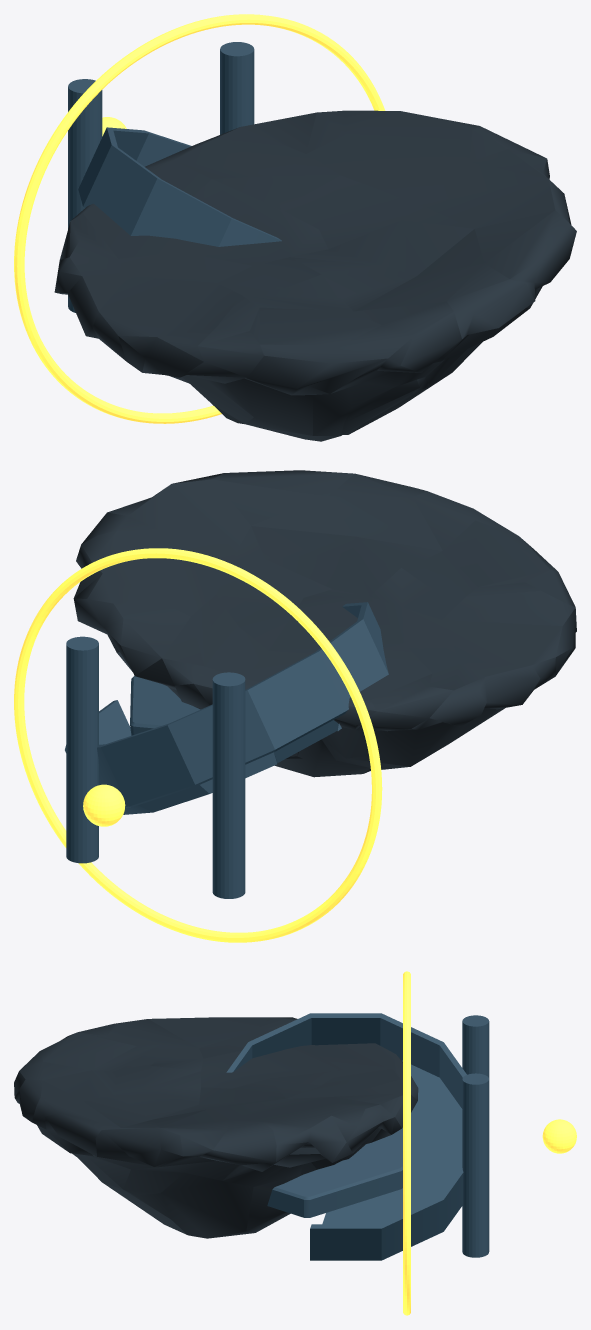
3 views of the same model, one above another, from view 1: azimuth 30°, elevation 25°; view 2: azimuth 150°, elevation 25°; view 3: azimuth 270°, elevation 25° (orthographic). The views are drawn at different scales.
Visible parts, largest first — view 1: AI_PM_launch_island_Floating_Island_01_Art, AI_PM_launch_station_Aero_Station_YellowRing_Art, AI_PM_launch_orange_ring, AI_PM_launch_gate_column_a, AI_PM_launch_gate_column_b; view 2: AI_PM_launch_island_Floating_Island_01_Art, AI_PM_launch_station_Aero_Station_YellowRing_Art, AI_PM_launch_orange_ring, AI_PM_launch_gate_column_a, AI_PM_launch_gate_column_b, AI_PM_launch_pad_Aero_Ground_Hexagon_Art, AI_PM_launch_gate_beacon; view 3: AI_PM_launch_island_Floating_Island_01_Art, AI_PM_launch_station_Aero_Station_YellowRing_Art, AI_PM_launch_pad_Aero_Ground_Hexagon_Art, AI_PM_launch_gate_column_b, AI_PM_launch_orange_ring, AI_PM_launch_gate_column_a, AI_PM_launch_gate_beacon.
Boxes of the visible parts, x1,y1,x2,y2 form: AI_PM_launch_island_Floating_Island_01_Art: (54, 110, 576, 441); AI_PM_launch_station_Aero_Station_YellowRing_Art: (78, 127, 281, 246); AI_PM_launch_orange_ring: (14, 14, 385, 423); AI_PM_launch_gate_column_a: (68, 79, 102, 312); AI_PM_launch_gate_column_b: (220, 42, 254, 134); AI_PM_launch_island_Floating_Island_01_Art: (73, 470, 576, 777); AI_PM_launch_station_Aero_Station_YellowRing_Art: (65, 602, 388, 814); AI_PM_launch_orange_ring: (14, 548, 382, 942); AI_PM_launch_gate_column_a: (212, 672, 245, 898); AI_PM_launch_gate_column_b: (66, 636, 98, 863); AI_PM_launch_pad_Aero_Ground_Hexagon_Art: (130, 676, 200, 735); AI_PM_launch_gate_beacon: (83, 784, 125, 826); AI_PM_launch_island_Floating_Island_01_Art: (14, 1017, 418, 1238); AI_PM_launch_station_Aero_Station_YellowRing_Art: (226, 1013, 466, 1260); AI_PM_launch_pad_Aero_Ground_Hexagon_Art: (267, 1127, 402, 1217); AI_PM_launch_gate_column_b: (462, 1073, 489, 1257); AI_PM_launch_orange_ring: (403, 971, 410, 1315); AI_PM_launch_gate_column_a: (462, 1015, 489, 1078); AI_PM_launch_gate_beacon: (542, 1119, 576, 1153).
Bounding box in the file's own units: 1.07 × 0.902 × 1.47.
